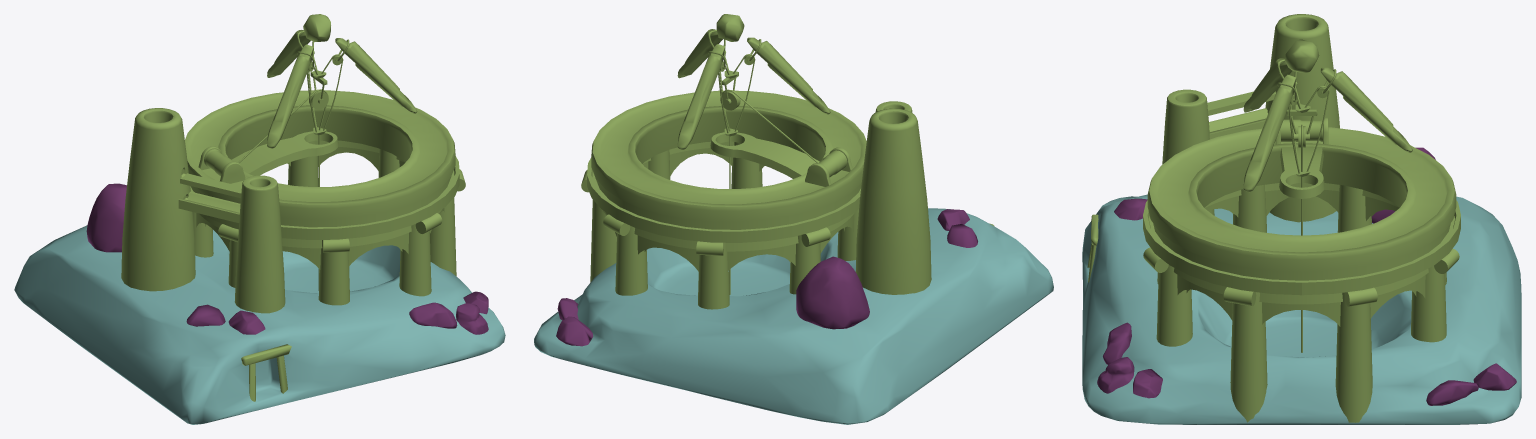
The model's file is SM_StoneBuilding_Resource_Mine(1).fbx.
3 renders of one model, left to right at view 1: azimuth 30°, elevation 25°; view 2: azimuth 150°, elevation 25°; view 3: azimuth 270°, elevation 25°, orthographic. The views are drawn at different scales.
Parts seen in each view (by area): view 1: Mine_04_Low1; view 2: Mine_04_Low1; view 3: Mine_04_Low1.
Boxes of the visible parts, box(x1,y1,x2,y2) form: Mine_04_Low1: box(14, 14, 505, 424); Mine_04_Low1: box(534, 14, 1053, 424); Mine_04_Low1: box(1082, 14, 1521, 424).
Bounding box in the file's own units: 729 × 571 × 708.
